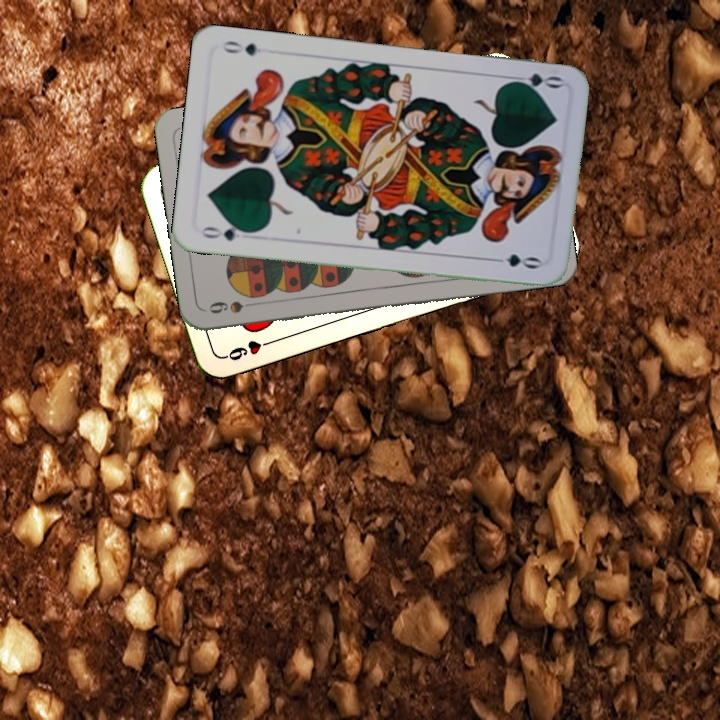GO: (504, 69, 564, 94), (198, 220, 256, 244)
H9: (221, 335, 279, 364)
S9: (205, 296, 263, 317)
